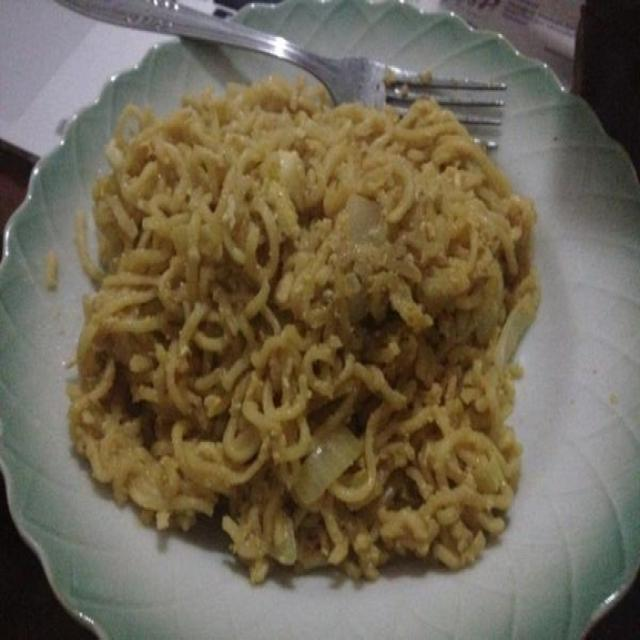面条主食: (46, 44, 591, 599)
